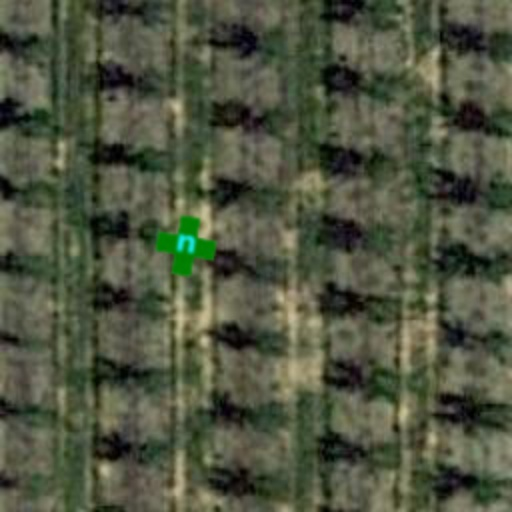cross: (150, 210, 222, 282)
